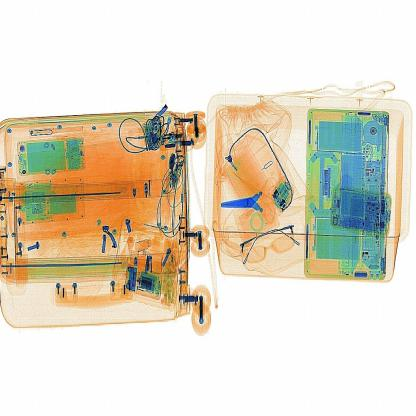gun: (218, 166, 284, 233)
